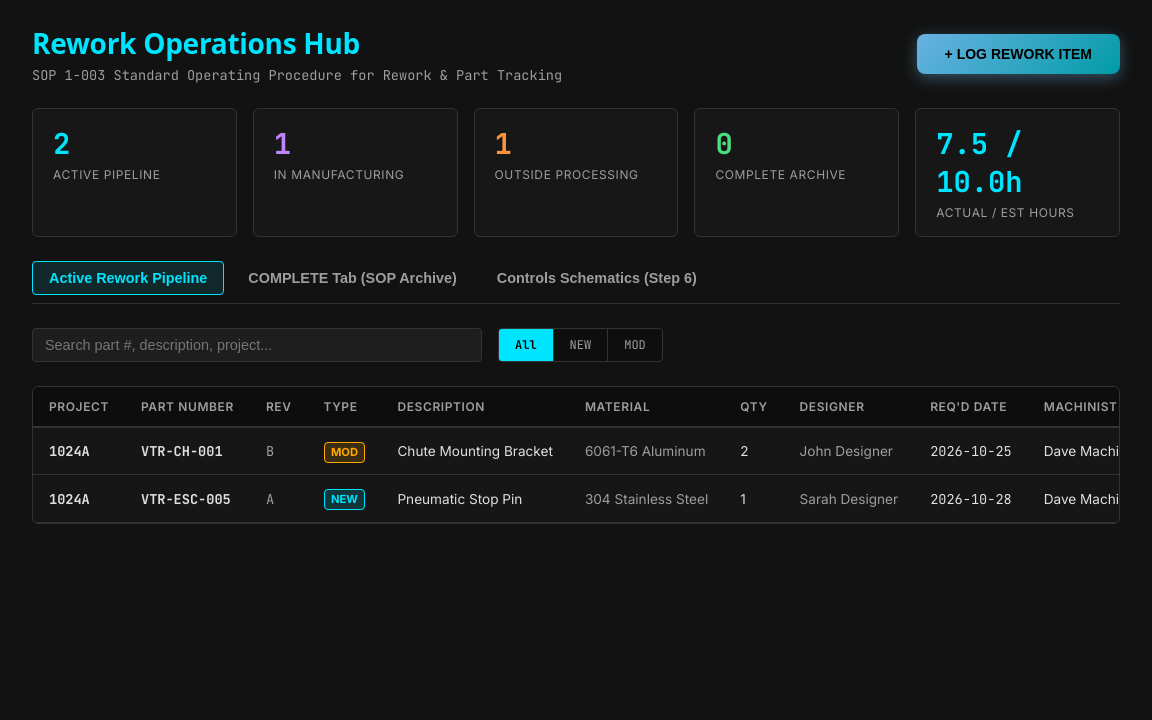
Test: ReworkHubPage › filters rework items by search query
This screenshot has width=1152, height=720.
Type "Chute" into the field with placeholder "Search part #, description, project...".
click(257, 345); type("Chute")  # box [32,328,482,362]
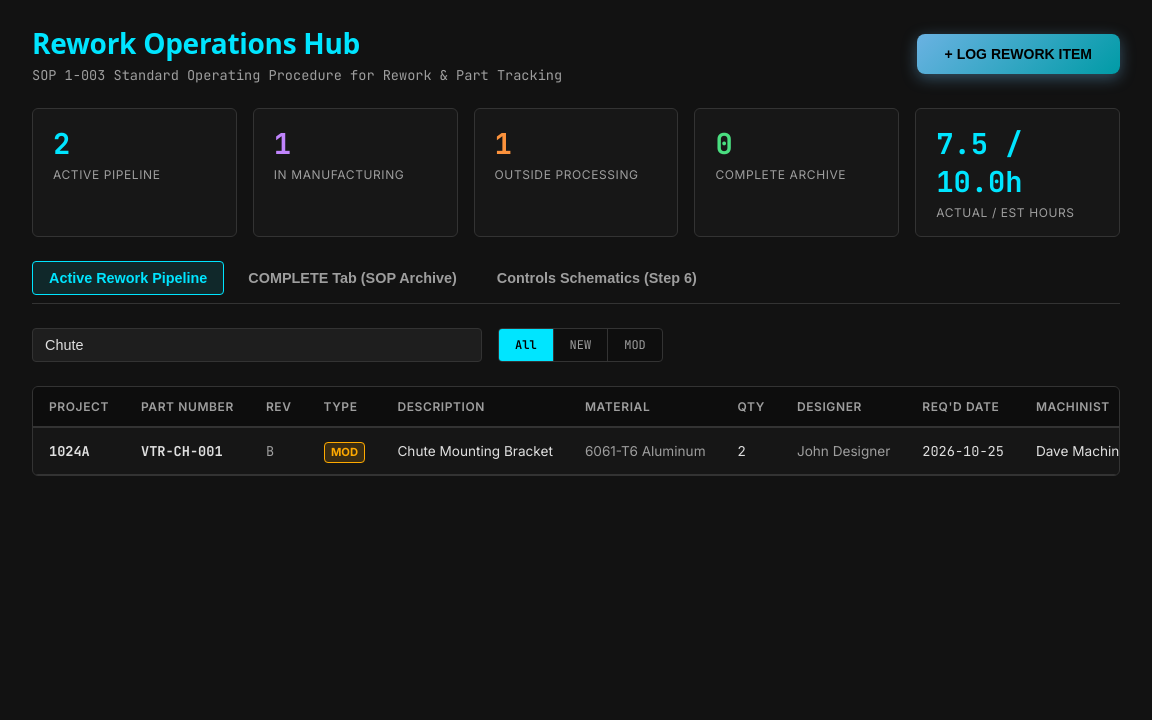
Expected: the text "VTR-CH-001" is shown, [125,427,250,475]
Now the text "VTR-ESC-005" is gone
